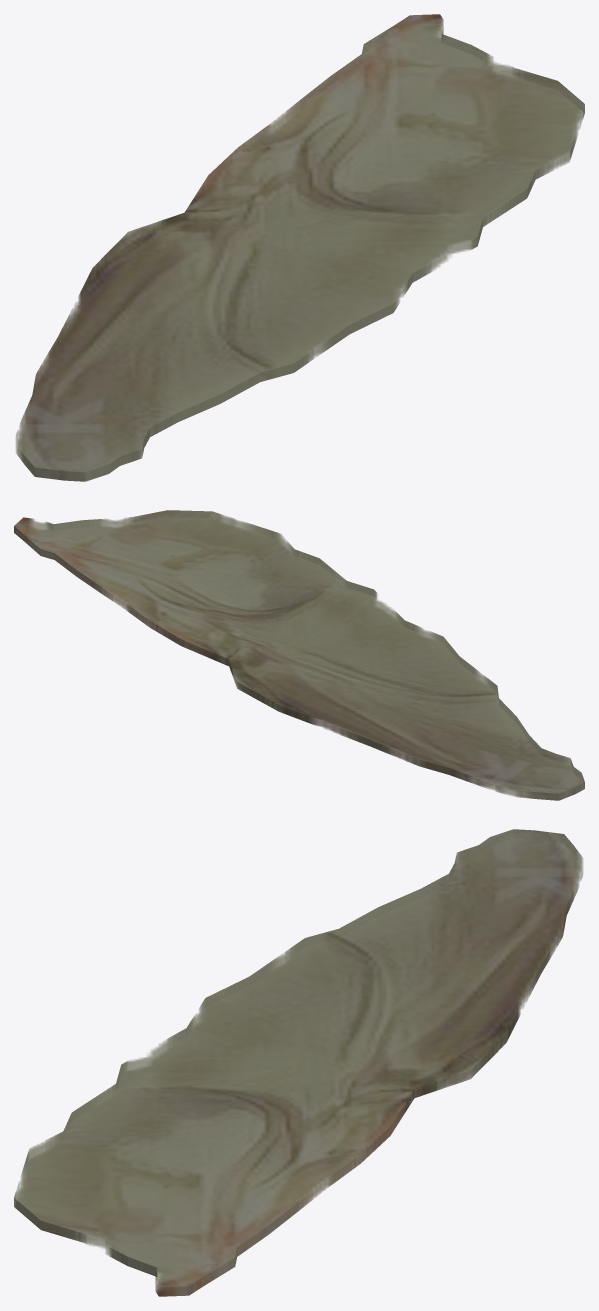
The model's file is wing.fbx.
3 views of the same model, one above another, from view 1: azimuth 90°, elevation 25°; view 2: azimuth 150°, elevation 25°; view 3: azimuth 270°, elevation 25° (orthographic). The views are drawn at different scales.
Visible parts, largest first — view 1: Plane; view 2: Plane; view 3: Plane.
Part boxes in pixels (x1,y1,x2,y2): Plane: [16, 14, 584, 481]; Plane: [14, 510, 584, 800]; Plane: [14, 829, 582, 1296].
Size of the model in its own units: 449 by 4.31 by 237.
1 material, 1 textured.
